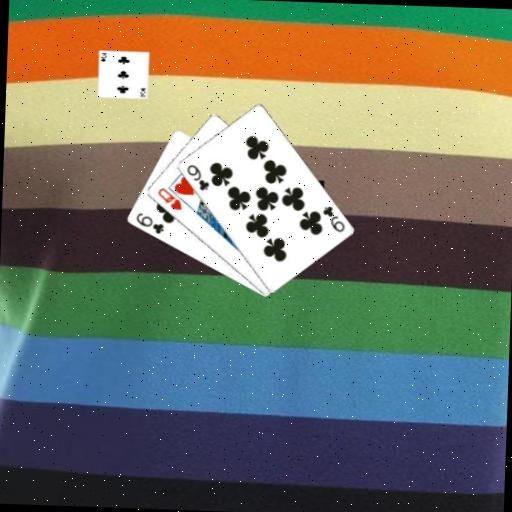6C: (132, 209, 165, 235)
9C: (183, 161, 212, 192), (318, 202, 346, 233)
QH: (153, 185, 183, 212)
